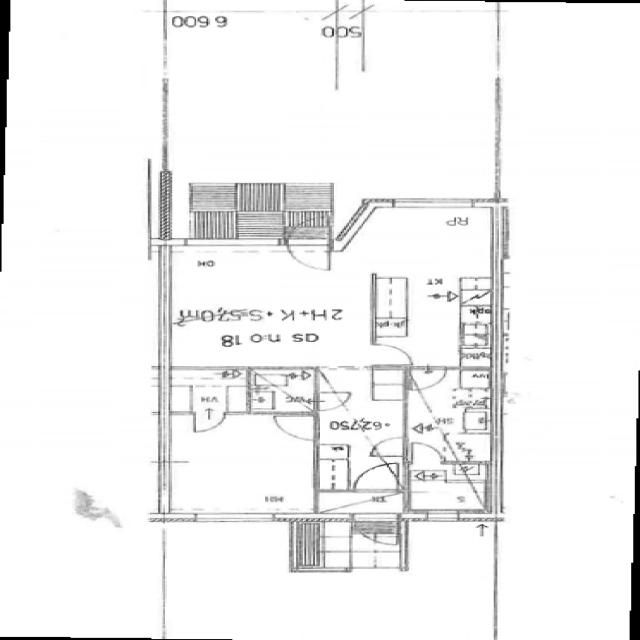door: (283, 229, 336, 274), (351, 461, 402, 493), (270, 413, 318, 442), (376, 439, 428, 464), (371, 342, 416, 368), (191, 408, 229, 433), (408, 441, 445, 466), (370, 436, 407, 459), (416, 368, 447, 390)
window: (179, 509, 284, 528), (172, 238, 286, 252), (388, 196, 481, 212), (414, 509, 476, 524)
zone: (332, 0, 502, 211), (164, 243, 373, 370), (362, 202, 499, 368), (162, 411, 318, 515), (404, 368, 494, 467), (314, 370, 402, 462), (405, 466, 493, 517), (163, 365, 248, 412), (246, 367, 317, 413)
